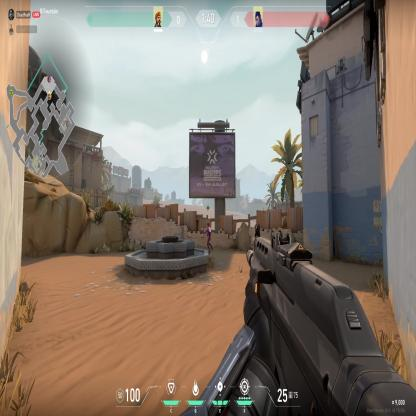enemy: (203, 222, 214, 254)
